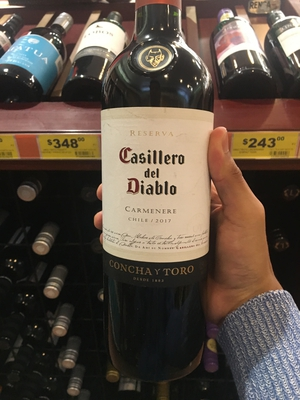casillero del diablo carmenere: (94, 19, 228, 381)
